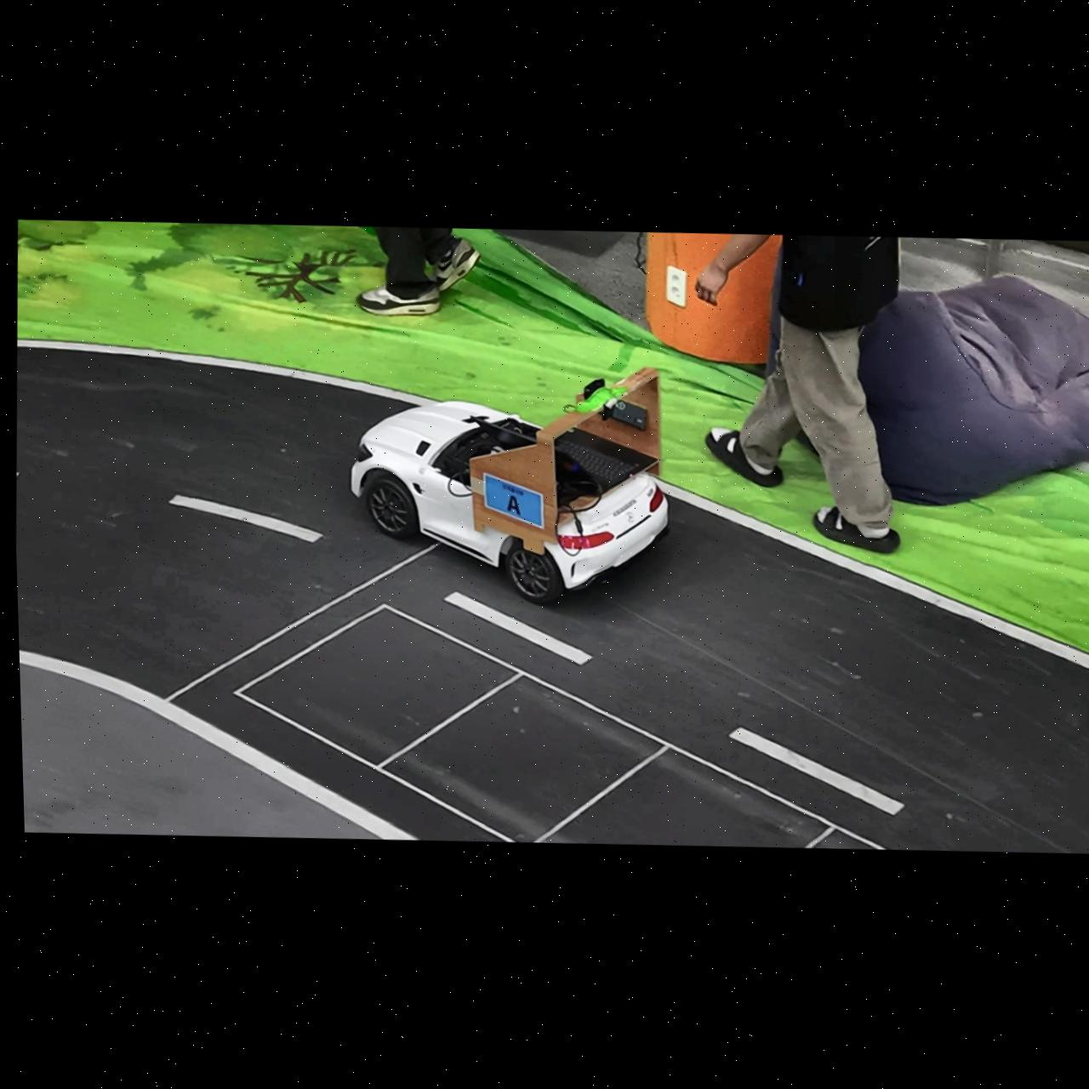broken_line: (729, 727, 903, 815), (444, 592, 591, 664), (168, 495, 322, 542)
